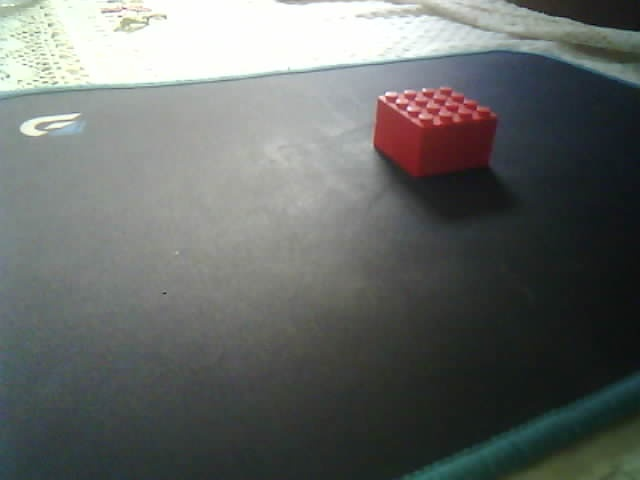lego: (371, 84, 498, 179)
